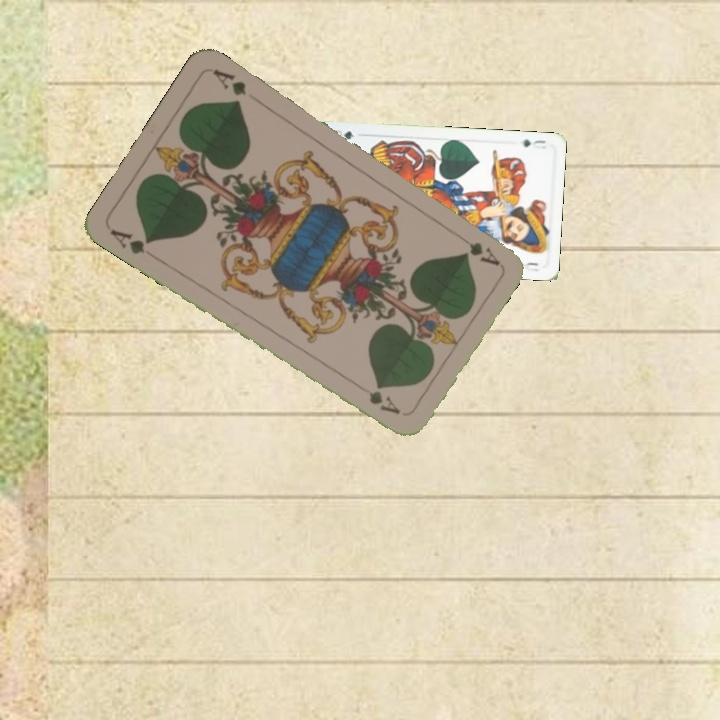GA: (449, 228, 502, 268), (106, 224, 155, 257)
GU: (519, 135, 549, 152)
